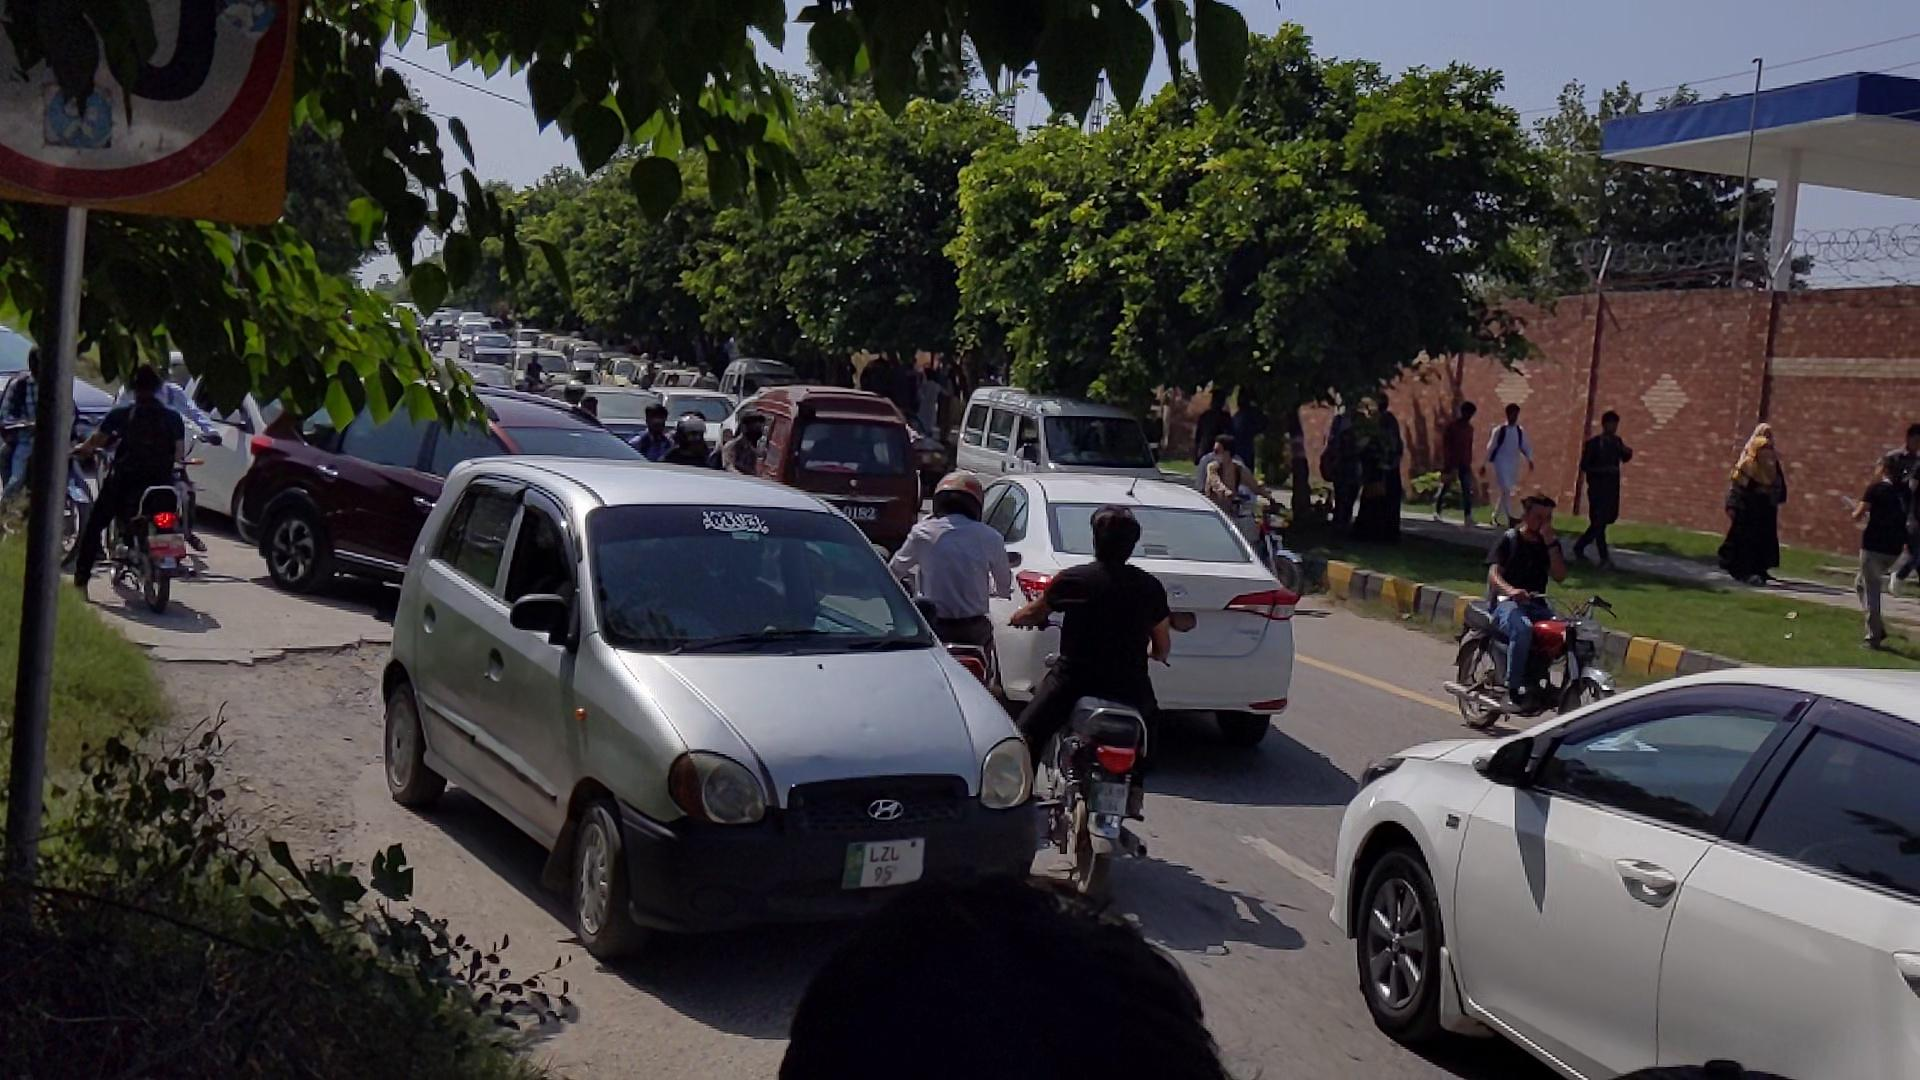windshield: (595, 497, 947, 676)
